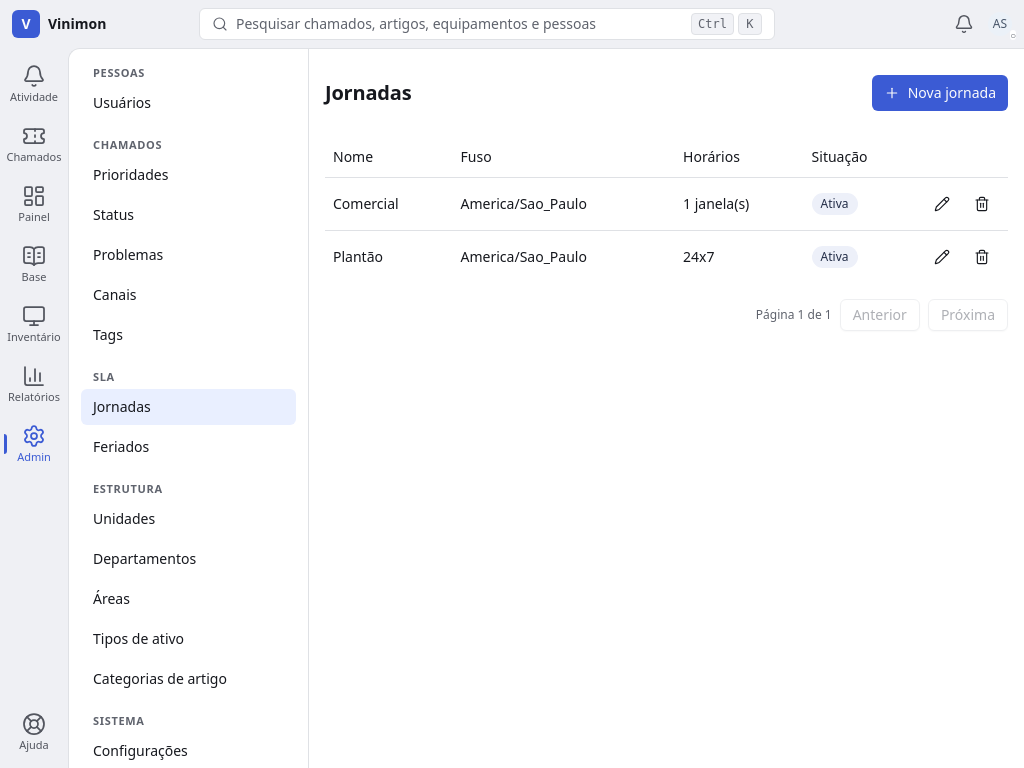
Test case: /admin/jornadas › (c) 409 ao excluir mostra a mensagem do servidor
Click the button named "Excluir Comercial" at (982, 204), box [964,186,1000,222]
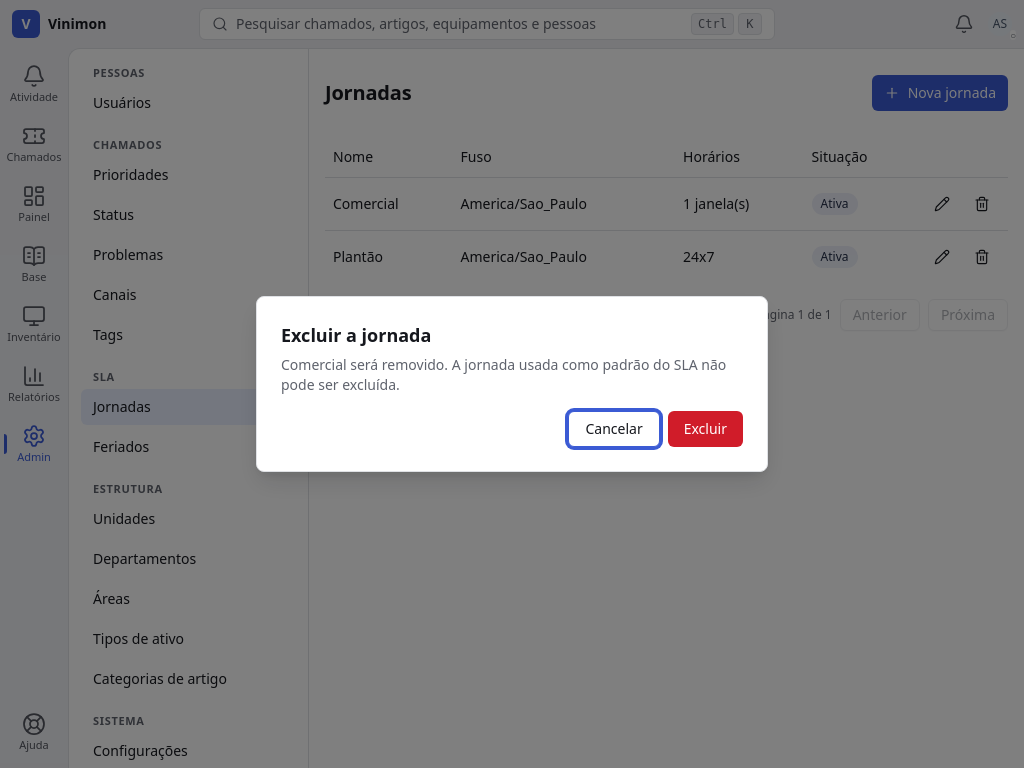
Click the button "Excluir" at (705, 429), box [668,411,743,447]
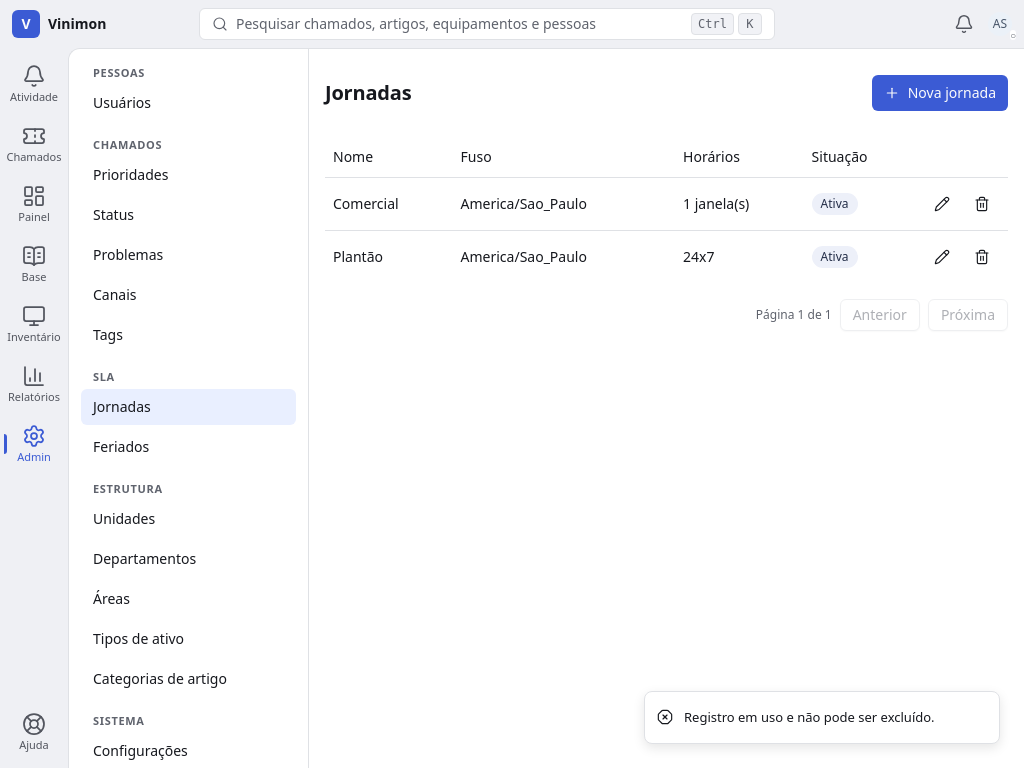
Expected: the text "Registro em uso e não pode ser excluído." is shown, [684,708,935,727]
